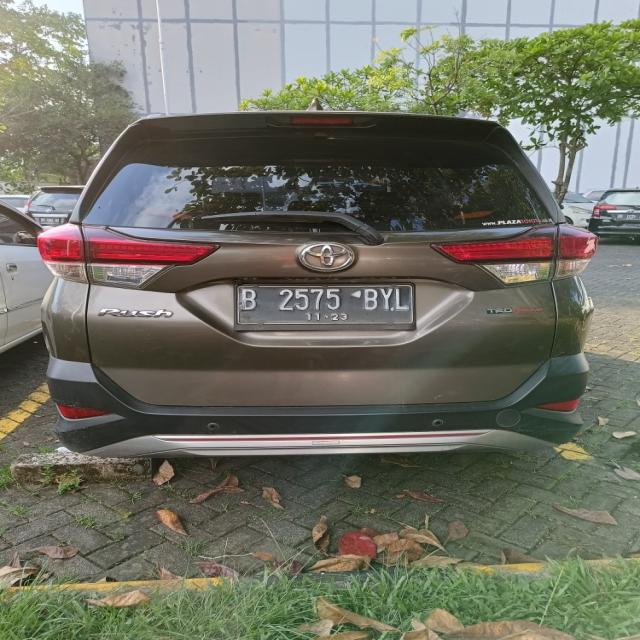plates: (224, 264, 431, 336)
